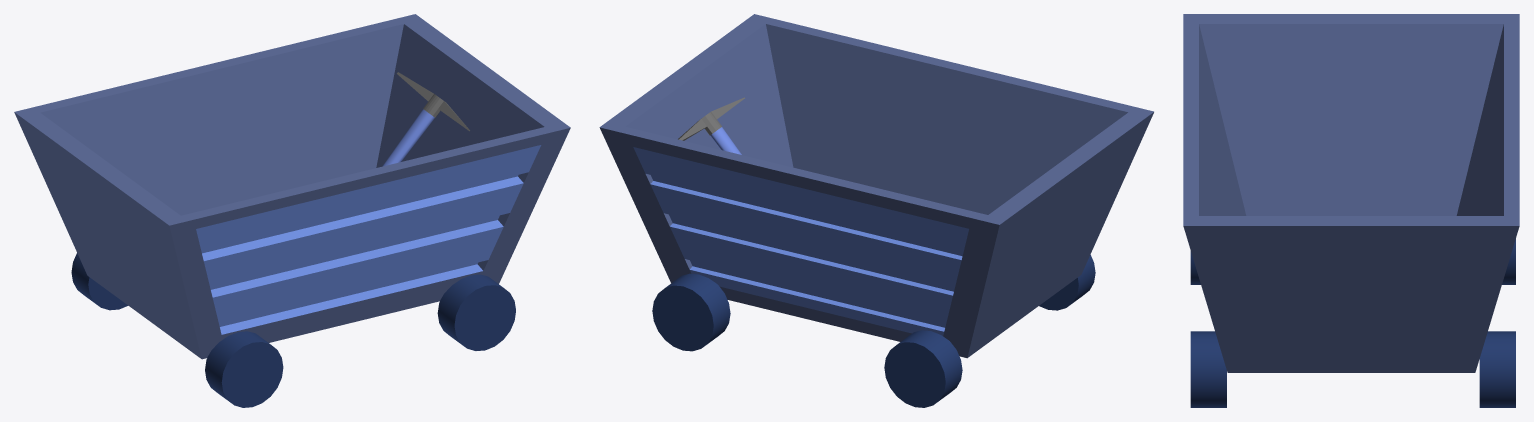
The model's file is Minecart_with_Pickaxe.fbx.
3 views of the same model, side by side, from view 1: azimuth 30°, elevation 25°; view 2: azimuth 150°, elevation 25°; view 3: azimuth 270°, elevation 25° (orthographic). The views are drawn at different scales.
Visible parts, largest first — view 1: Minecart_with_Pickaxe; view 2: Minecart_with_Pickaxe; view 3: Minecart_with_Pickaxe.
Boxes of the visible parts, box(x1,y1,x2,y2) form: Minecart_with_Pickaxe: box(14, 14, 570, 407); Minecart_with_Pickaxe: box(599, 14, 1153, 407); Minecart_with_Pickaxe: box(1183, 14, 1519, 407).
Bounding box in the file's own units: 3.31 × 1.61 × 2.22.
